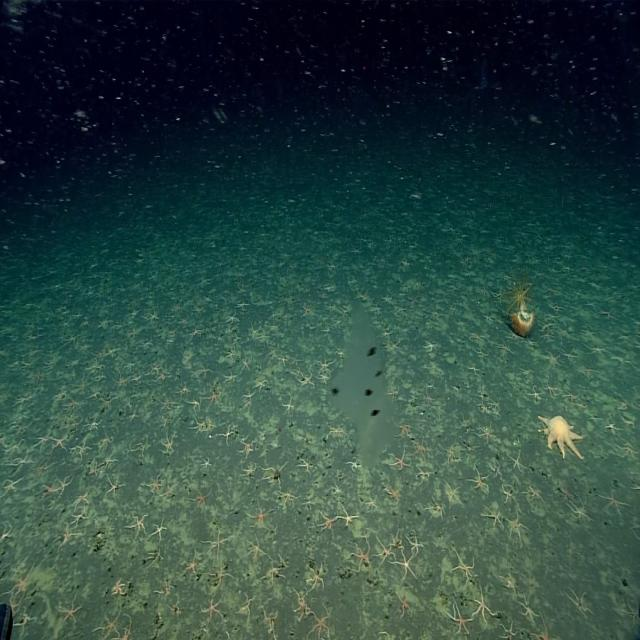brittle-stars: (236, 587, 259, 628), (143, 539, 168, 575), (150, 573, 178, 602), (474, 587, 495, 624), (452, 551, 477, 582), (448, 604, 472, 636), (204, 531, 230, 560), (567, 588, 592, 618), (308, 608, 331, 640), (60, 593, 83, 625), (10, 566, 34, 596), (96, 611, 120, 640), (619, 598, 640, 629), (456, 432, 482, 456), (350, 543, 371, 572), (395, 551, 416, 580), (530, 619, 559, 640), (600, 490, 625, 514), (247, 504, 270, 530), (163, 599, 185, 626), (518, 594, 539, 621), (201, 596, 224, 620), (190, 487, 213, 511), (508, 513, 528, 540), (292, 589, 310, 618), (567, 499, 589, 522), (9, 450, 31, 473), (59, 325, 81, 348), (182, 550, 200, 578), (57, 524, 78, 548), (0, 475, 22, 497), (376, 540, 396, 564), (128, 514, 148, 538), (265, 560, 285, 584), (12, 416, 36, 436), (482, 507, 503, 529), (263, 464, 284, 486), (338, 506, 359, 528), (308, 565, 326, 590), (445, 481, 463, 506), (412, 438, 430, 463), (17, 606, 35, 631), (105, 474, 124, 497), (383, 480, 401, 504), (389, 451, 409, 472), (471, 471, 491, 492), (211, 563, 230, 585), (246, 536, 264, 559), (262, 607, 280, 630), (176, 346, 199, 364), (100, 394, 120, 414), (426, 498, 445, 519), (499, 619, 518, 640), (29, 366, 48, 387), (431, 398, 450, 419), (150, 518, 168, 540), (510, 451, 528, 473), (278, 489, 297, 509), (136, 336, 156, 355), (612, 392, 631, 412), (56, 476, 73, 498), (123, 404, 140, 426), (619, 442, 639, 460), (397, 592, 411, 617), (478, 423, 496, 442), (318, 513, 336, 532), (72, 491, 90, 510), (31, 461, 50, 479), (145, 476, 162, 496), (134, 437, 151, 457), (73, 441, 90, 460), (218, 424, 234, 444), (586, 342, 606, 358), (409, 533, 424, 554), (162, 482, 177, 503), (162, 433, 176, 455), (0, 523, 14, 545), (52, 436, 69, 454), (160, 392, 177, 410), (71, 510, 88, 528), (14, 395, 32, 412), (6, 437, 24, 454), (98, 433, 113, 453), (329, 423, 346, 440), (40, 482, 57, 499), (525, 486, 543, 502), (542, 380, 558, 398), (300, 457, 316, 475), (116, 622, 132, 640), (84, 386, 102, 402), (480, 308, 496, 326), (446, 442, 459, 464), (112, 578, 126, 598), (502, 572, 516, 592), (7, 595, 21, 615), (52, 383, 66, 403), (300, 300, 314, 320), (206, 391, 222, 408), (317, 355, 333, 372), (544, 349, 560, 366), (496, 339, 512, 356), (548, 299, 567, 313), (417, 465, 432, 482), (35, 434, 50, 451), (240, 440, 254, 458), (282, 393, 293, 415), (561, 347, 577, 362), (197, 362, 213, 377), (528, 384, 542, 401), (563, 389, 580, 403), (192, 302, 206, 319), (598, 308, 616, 321), (501, 485, 514, 503), (478, 282, 491, 300), (364, 492, 376, 511), (622, 415, 637, 430), (422, 340, 438, 354), (89, 416, 103, 432), (158, 366, 172, 382), (103, 453, 117, 469), (347, 456, 361, 472), (76, 377, 90, 393), (560, 486, 574, 502), (577, 364, 593, 378), (66, 397, 80, 413), (88, 360, 104, 374), (398, 421, 411, 438), (242, 462, 256, 477), (316, 372, 331, 386), (113, 375, 127, 390), (105, 344, 119, 359), (608, 420, 622, 435), (428, 364, 443, 378), (379, 629, 398, 640), (187, 396, 200, 412), (469, 332, 485, 345), (191, 417, 204, 433), (384, 382, 397, 398), (336, 346, 349, 362), (490, 461, 502, 478), (459, 414, 471, 431), (224, 370, 238, 384), (301, 374, 315, 388), (466, 361, 480, 375), (98, 315, 112, 329), (249, 322, 261, 338), (68, 416, 80, 432), (241, 355, 252, 372), (332, 481, 343, 498), (254, 379, 268, 392), (225, 312, 238, 326), (385, 340, 398, 354), (192, 328, 205, 342), (223, 348, 236, 362), (121, 359, 135, 372), (132, 369, 144, 384), (90, 462, 102, 477), (180, 380, 192, 395), (379, 292, 392, 305), (429, 306, 442, 319), (202, 456, 214, 470), (479, 400, 491, 414), (269, 320, 281, 334), (304, 495, 315, 510), (158, 414, 169, 429), (278, 352, 289, 367), (268, 344, 279, 359), (424, 390, 434, 406), (237, 298, 250, 310), (394, 303, 406, 316), (129, 307, 141, 320), (575, 398, 587, 411), (149, 360, 161, 373), (476, 348, 489, 360), (631, 480, 640, 497), (241, 386, 251, 401), (147, 311, 159, 323), (236, 284, 248, 296), (477, 388, 488, 401), (583, 327, 596, 338), (540, 332, 553, 343), (206, 419, 216, 433), (290, 354, 301, 366), (490, 397, 501, 409), (173, 302, 183, 315), (0, 388, 7, 406), (334, 317, 345, 328), (540, 321, 551, 332), (382, 326, 392, 338), (324, 327, 334, 339), (325, 302, 335, 314), (399, 256, 409, 268), (178, 315, 188, 326), (492, 408, 501, 419)
